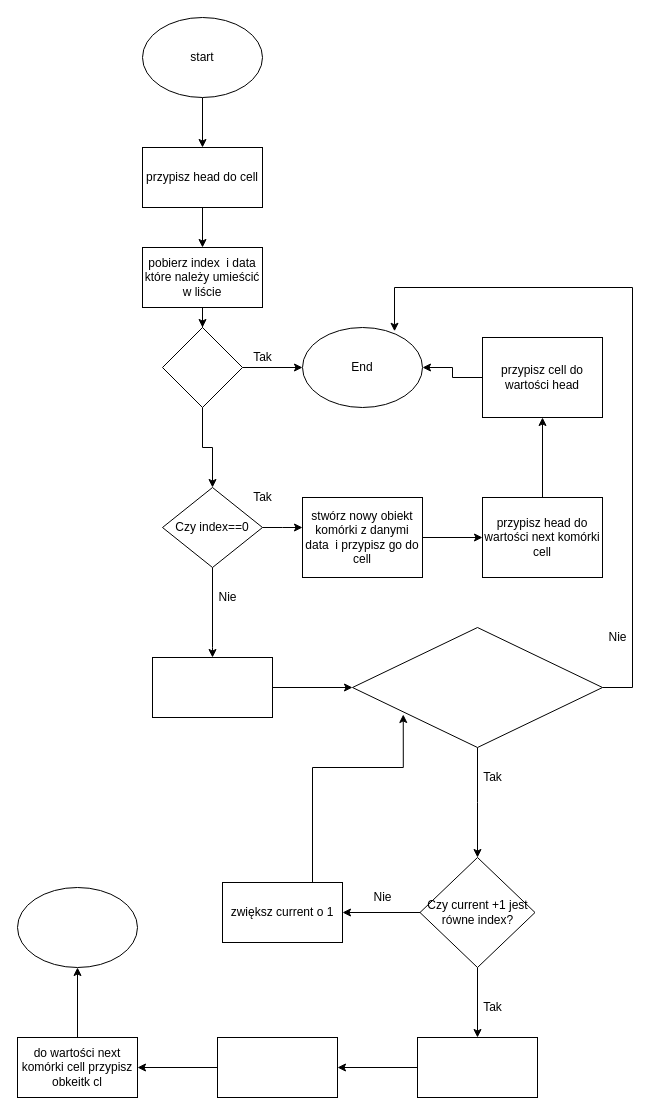
The diagram is 658 pixels wide and 1115 high, and some of its shapes have lost their labels. Here are the shapes that lost their labels. From the top down, the centre of each, then its label:
At (x=202, y=367): "Czy index<0".
At (x=212, y=687): "przypisz head do cell, stwórz zmienną current równą 0".
At (x=477, y=687): "Czy current jest mniejsze od długości listy ?".
At (x=277, y=1067): "do wartości next obiektu cl przypisz wartość next obiektu cell".
At (x=477, y=1067): "stwórz nową komórkę i przypisz ją do zmiennej cl".
